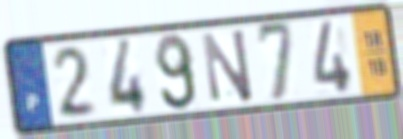2: (51, 43, 99, 122)
4: (310, 16, 354, 97), (107, 36, 147, 117)
7: (254, 20, 296, 106)
9: (153, 30, 201, 114)
N: (199, 26, 256, 105)
